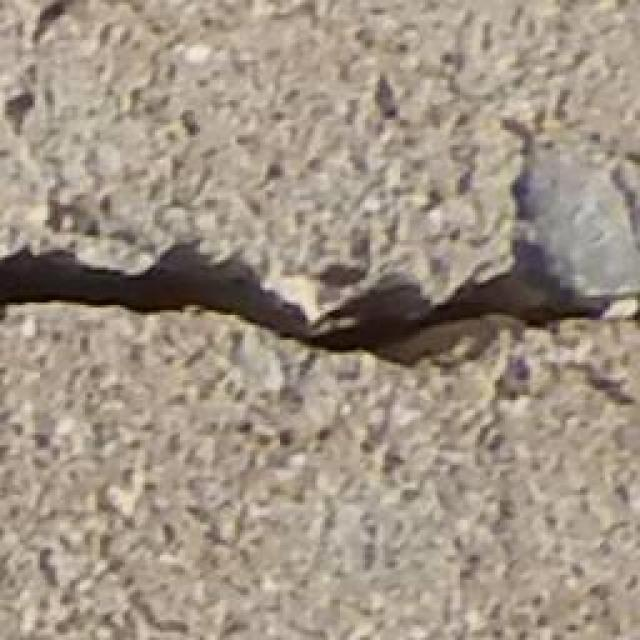concrete-crack: (4, 102, 640, 387)
